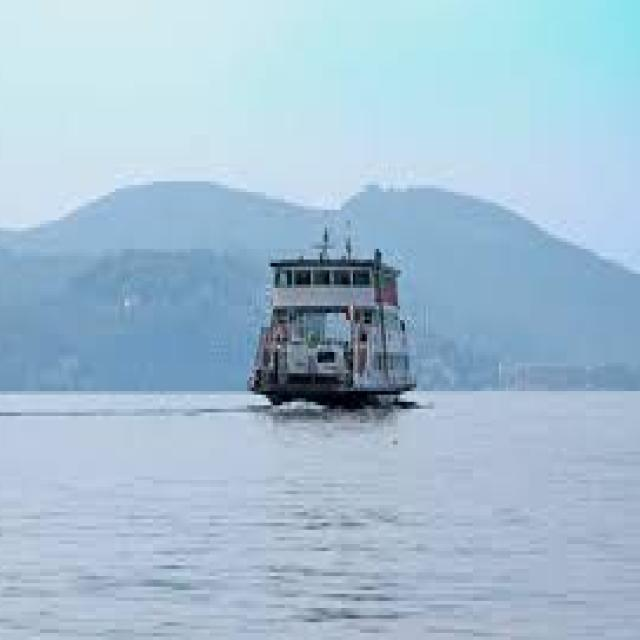cargoship: (237, 227, 408, 430)
